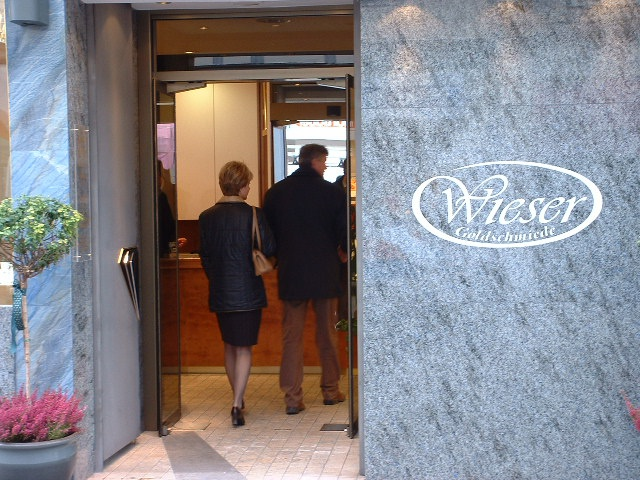person: (263, 144, 353, 413), (196, 154, 268, 423)
